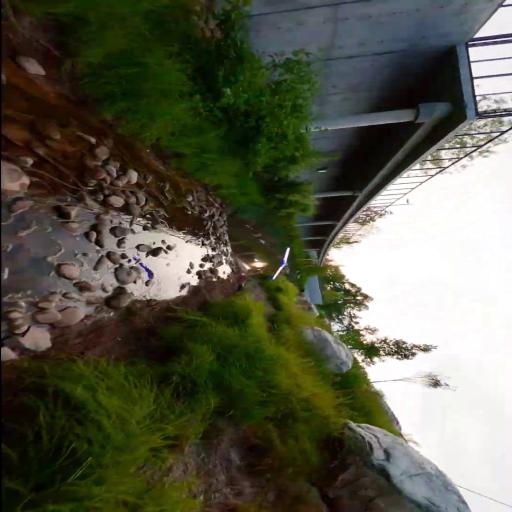uav: (266, 246, 294, 282)
